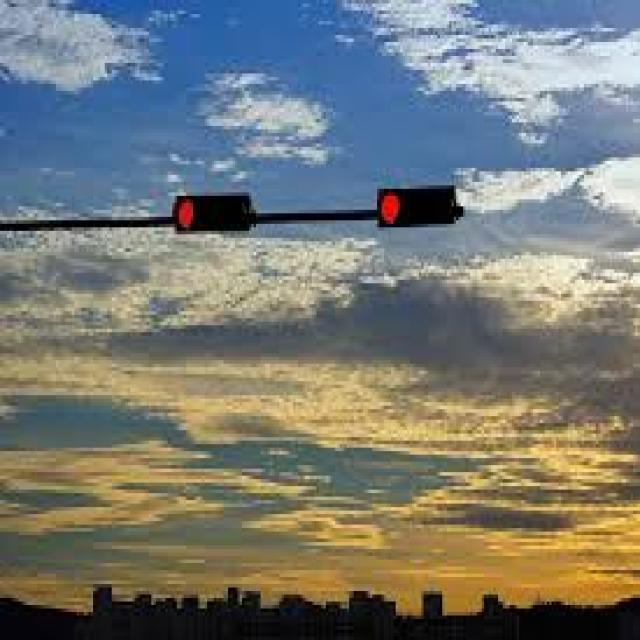Red Light: (173, 187, 201, 239), (376, 184, 404, 227)
